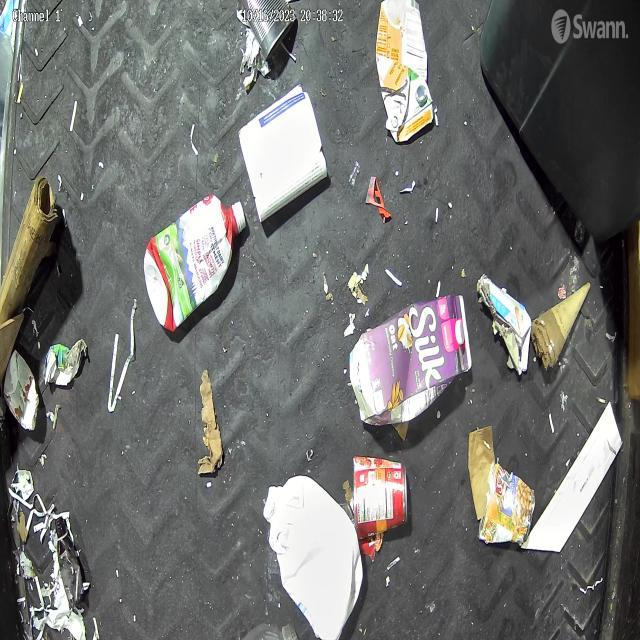can: (348, 443, 416, 545), (237, 0, 302, 59)
milk_jug: (262, 474, 371, 640)
